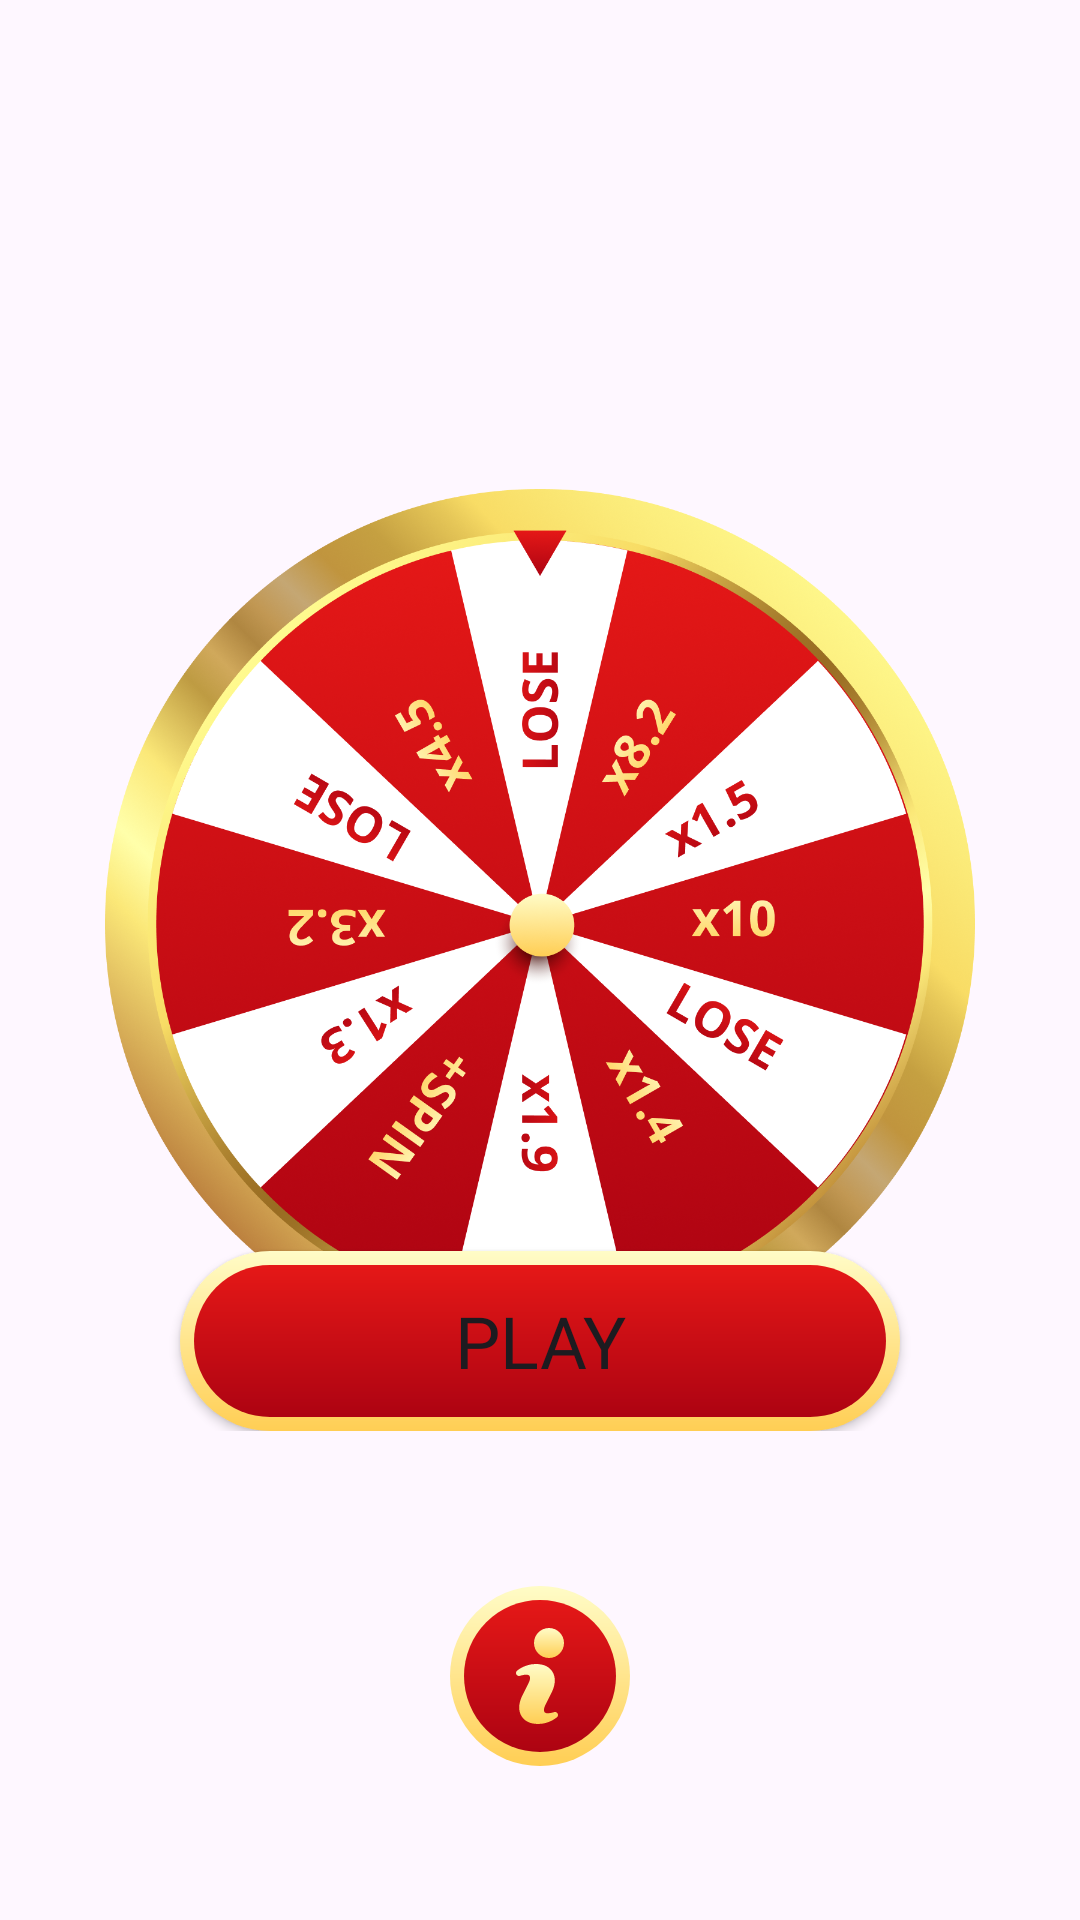

Locate icon controls on the screen. Image size 1080 × 1920, boxes as (x1, y1, x2, y2).
info: (450, 1586, 630, 1766)
